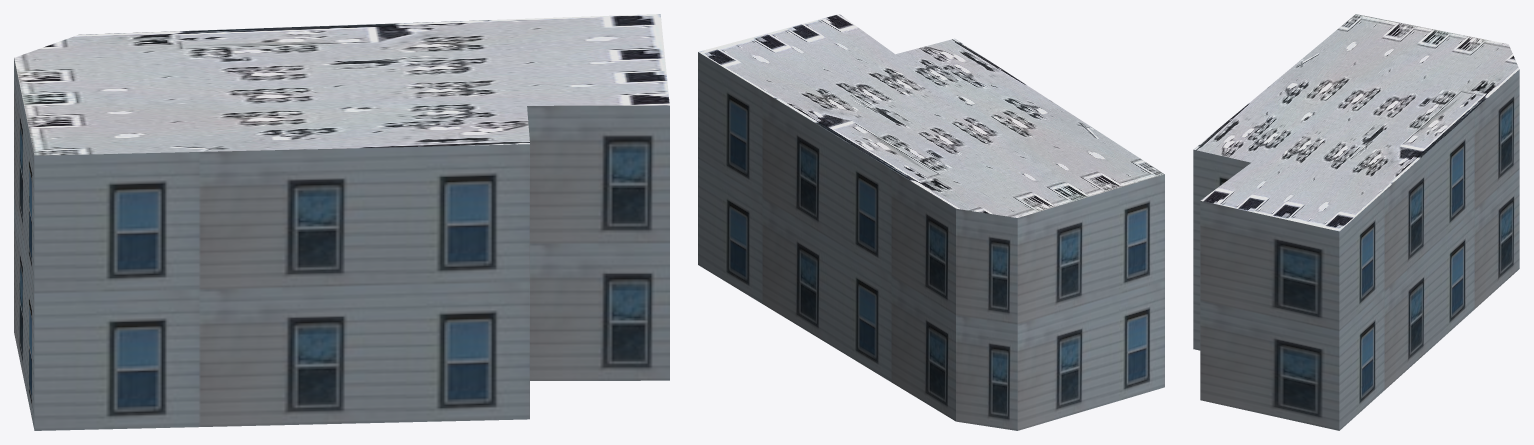
Rendered from ResTex__909.fbx.
3 renders of one model, left to right at view 1: azimuth 30°, elevation 25°; view 2: azimuth 150°, elevation 25°; view 3: azimuth 270°, elevation 25°, orthographic. The views are drawn at different scales.
Visible parts, largest first — view 1: CityEngineMaterial_18_m, CityEngineMaterial_8_m; view 2: CityEngineMaterial_18_m, CityEngineMaterial_8_m; view 3: CityEngineMaterial_18_m, CityEngineMaterial_8_m.
Boxes of the visible parts, box(x1,y1,x2,y2) form: CityEngineMaterial_18_m: box(14, 58, 669, 430); CityEngineMaterial_8_m: box(14, 14, 669, 155); CityEngineMaterial_18_m: box(698, 52, 1164, 430); CityEngineMaterial_8_m: box(698, 14, 1164, 217); CityEngineMaterial_18_m: box(1193, 70, 1519, 430); CityEngineMaterial_8_m: box(1194, 14, 1519, 231).
Size of the model in its own units: 14.03 by 6 by 8.89.
Materials: 2 (2 with a texture image).
